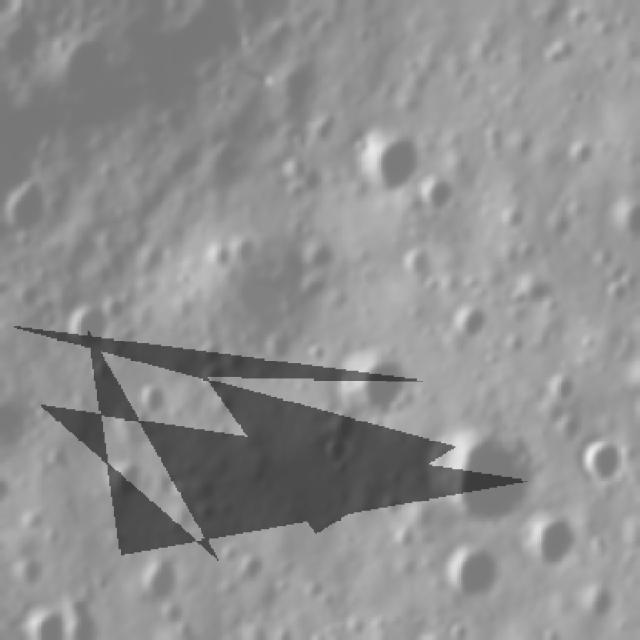crater: (426, 424, 528, 516), (334, 353, 414, 415), (356, 125, 412, 189), (516, 508, 575, 566), (445, 541, 498, 601), (7, 168, 50, 234), (59, 299, 110, 352), (124, 370, 158, 435), (106, 453, 146, 501), (574, 438, 620, 478), (134, 556, 180, 593), (227, 544, 268, 584), (394, 238, 435, 276), (25, 604, 72, 636), (452, 302, 485, 344), (580, 578, 608, 622), (198, 356, 234, 389), (424, 175, 454, 214), (314, 432, 348, 461), (603, 274, 626, 304), (548, 372, 580, 393), (567, 134, 590, 161), (211, 238, 232, 265), (306, 339, 326, 367), (171, 263, 192, 288), (33, 399, 50, 424), (577, 330, 594, 352)
